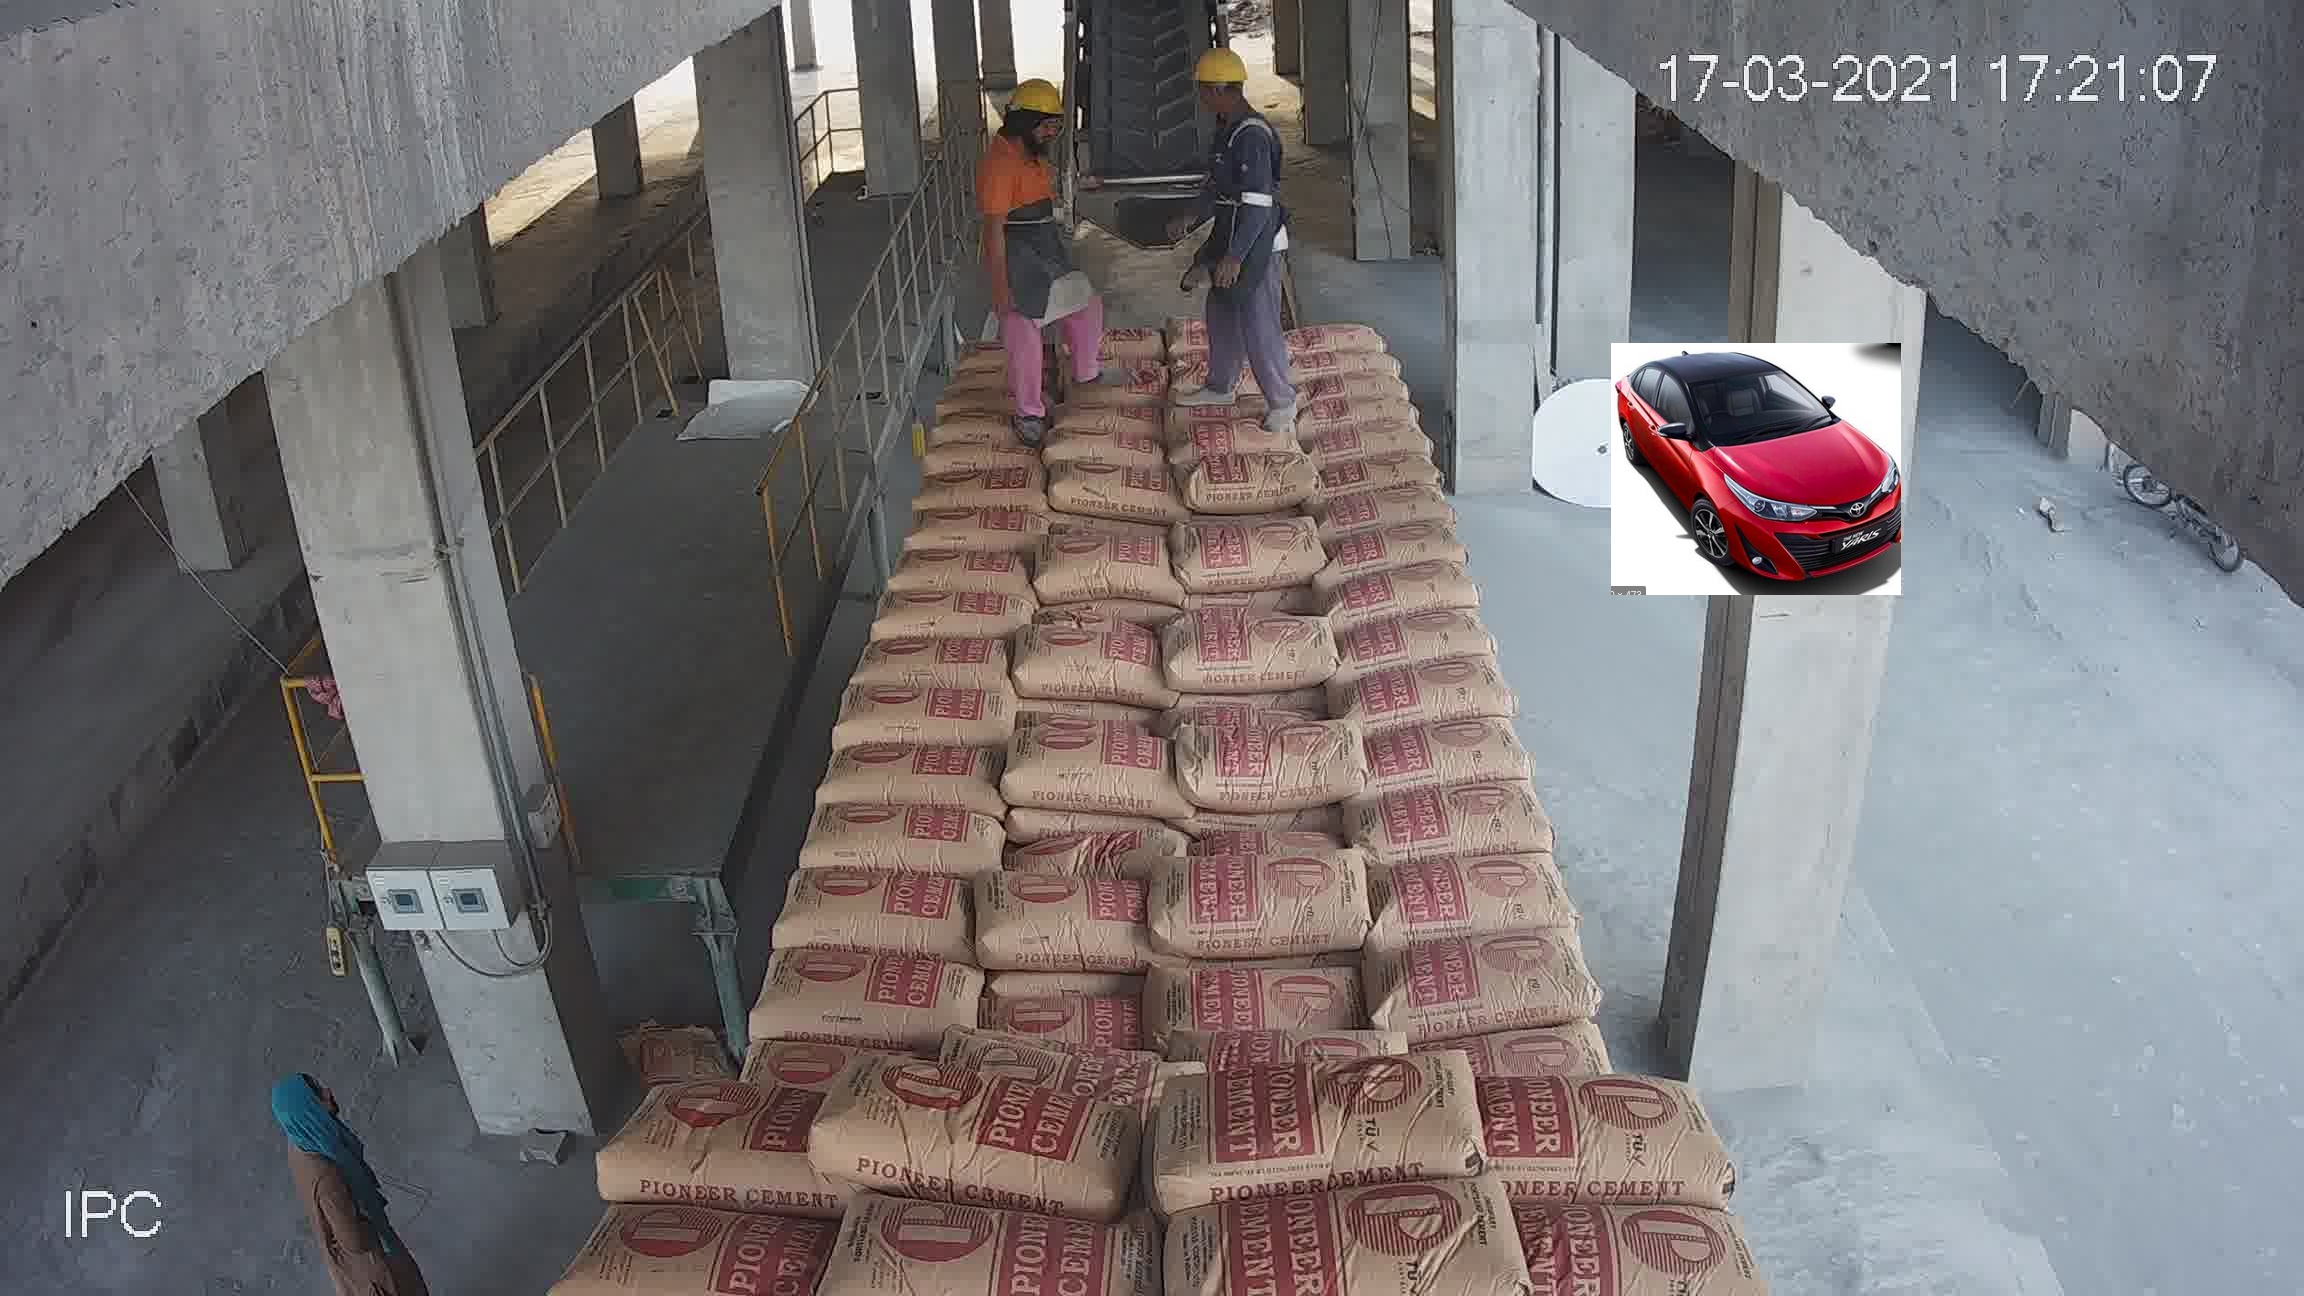bag: (1081, 410, 1211, 559), (1081, 65, 1211, 174)
bag_h: (1114, 1032, 1491, 1218), (802, 1079, 1158, 1206), (1133, 1184, 1537, 1294), (866, 943, 1147, 1089), (1163, 927, 1424, 1079), (1476, 1071, 1734, 1206), (1130, 717, 1388, 850), (1152, 824, 1416, 953), (611, 968, 873, 1097), (880, 851, 1166, 967), (892, 742, 1174, 850), (1415, 954, 1695, 1055), (606, 1089, 845, 1207), (654, 859, 894, 970), (820, 1218, 1147, 1296), (1521, 1211, 1799, 1296), (1415, 859, 1658, 953), (551, 1218, 817, 1293), (1381, 771, 1600, 859), (707, 785, 897, 878), (829, 665, 991, 736), (1356, 636, 1505, 711), (1059, 647, 1179, 736), (1355, 532, 1487, 603), (847, 623, 984, 679), (1359, 589, 1483, 649), (1380, 698, 1524, 748), (1347, 508, 1461, 568), (1090, 562, 1184, 633), (1353, 486, 1465, 536), (828, 729, 927, 783), (869, 582, 973, 628), (1347, 445, 1446, 491), (1343, 411, 1429, 464), (1065, 635, 1169, 676), (886, 555, 946, 589)
belt: (1030, 28, 1305, 536)
